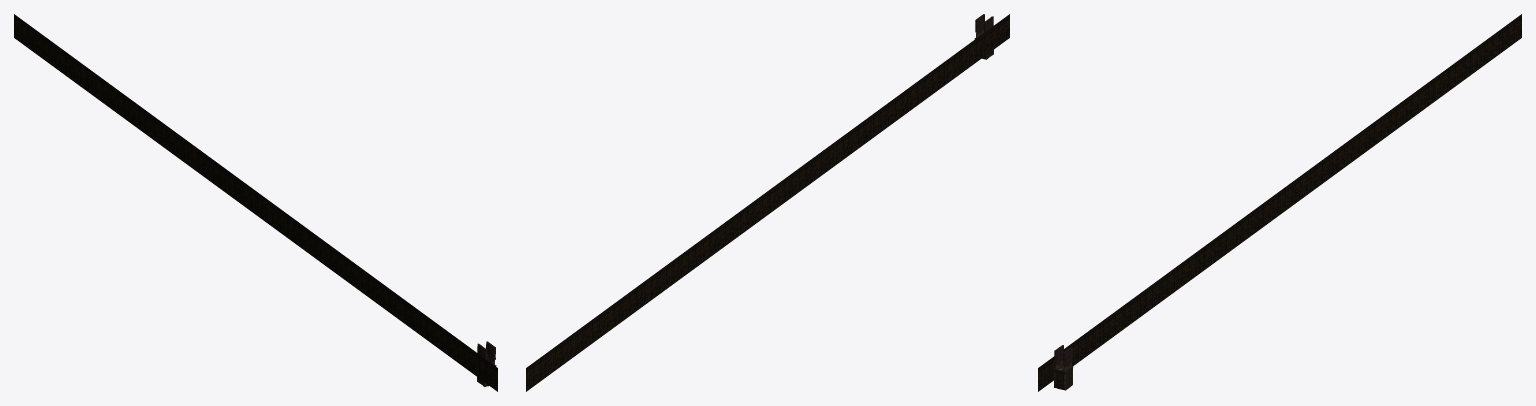
Rendered from trail_01.glb.
The picture shows the model from 3 angles, left to right: view 1: azimuth 30°, elevation 25°; view 2: azimuth 150°, elevation 25°; view 3: azimuth 330°, elevation 25°; orthographic projection.
Parts seen in each view (by area): view 1: Background; view 2: Background; view 3: Background, Wall.
Boxes of the visible parts, x1,y1,x2,y2 form: Background: [14, 14, 497, 391]; Background: [526, 14, 1009, 391]; Background: [1038, 14, 1521, 391]; Wall: [1053, 345, 1073, 390].
Bounding box in the file's own units: 13.63 × 37.75 × 879.
9 materials, 7 textured.
